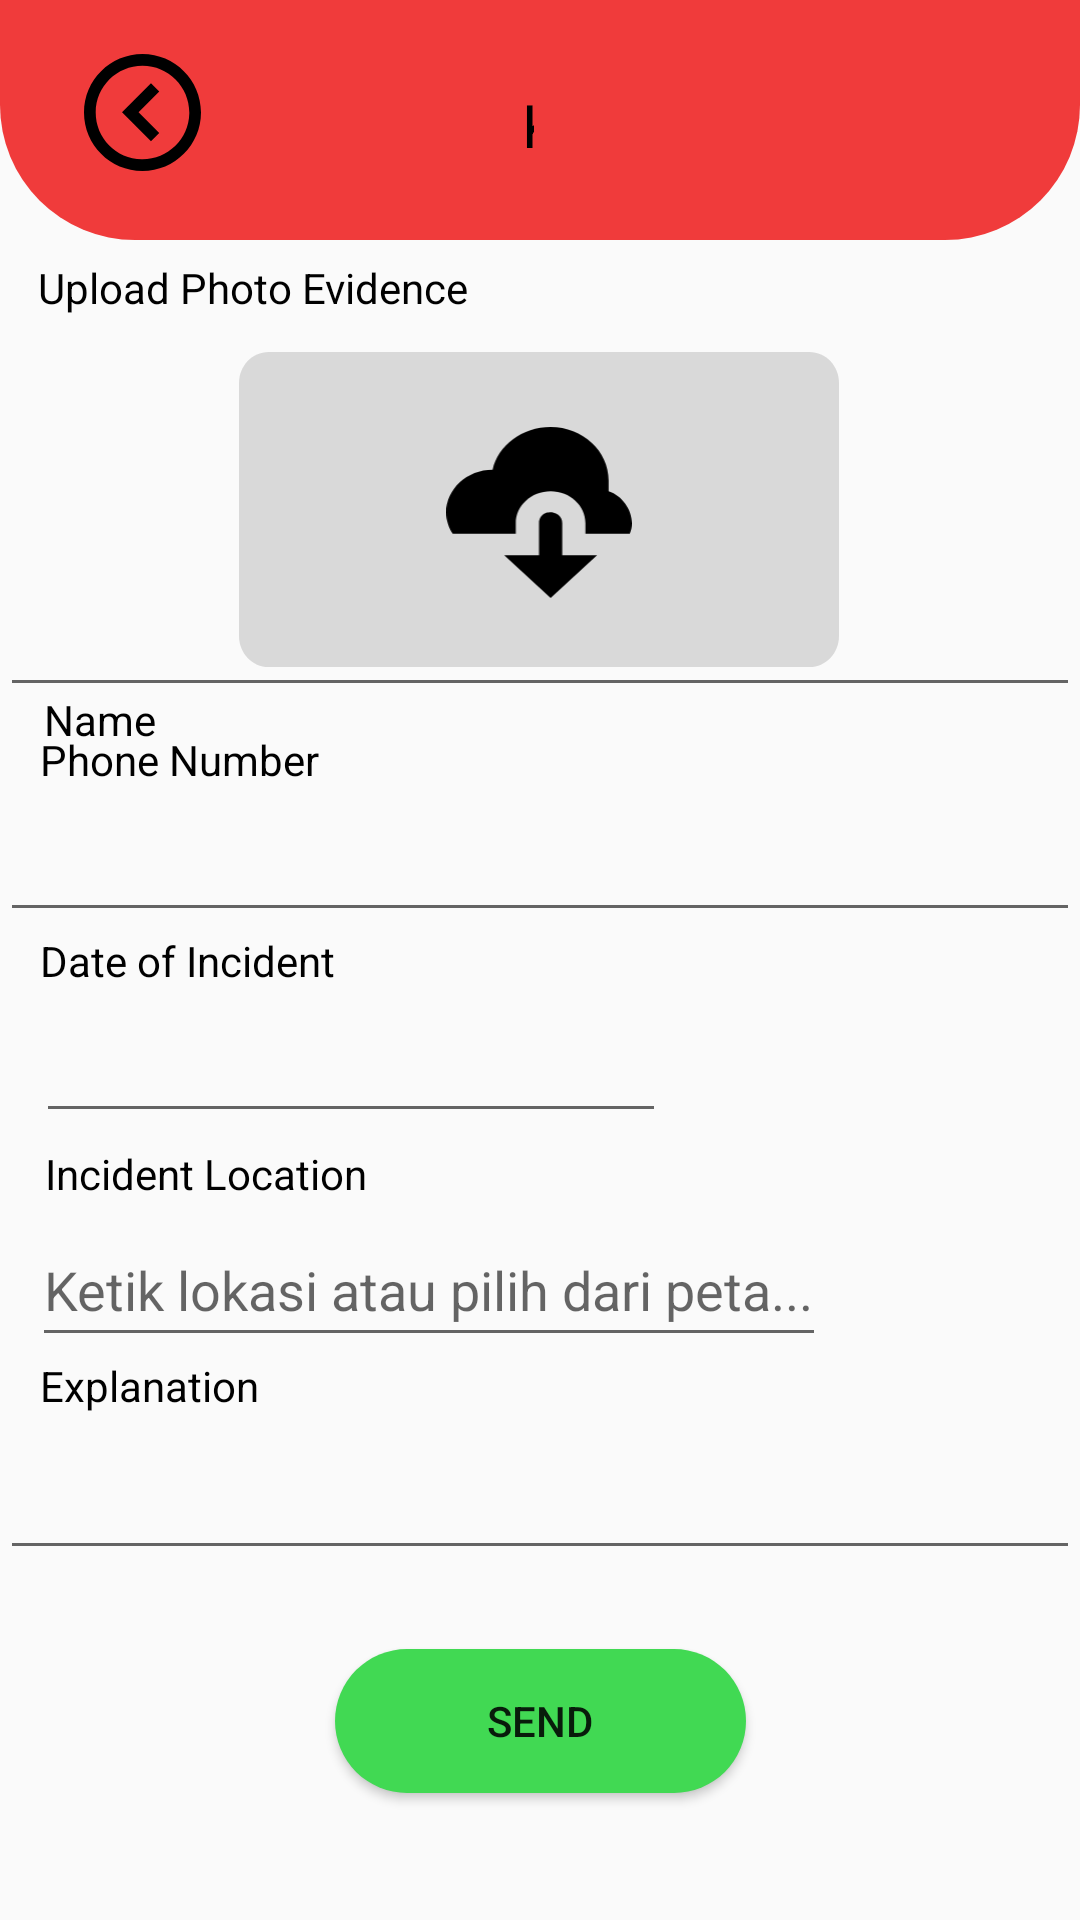

Icon bounding boxes for this 1080*1920 phone screenshot, format Rect(x1, y1, x2, y2):
cloud download: Rect(446, 427, 632, 598)
